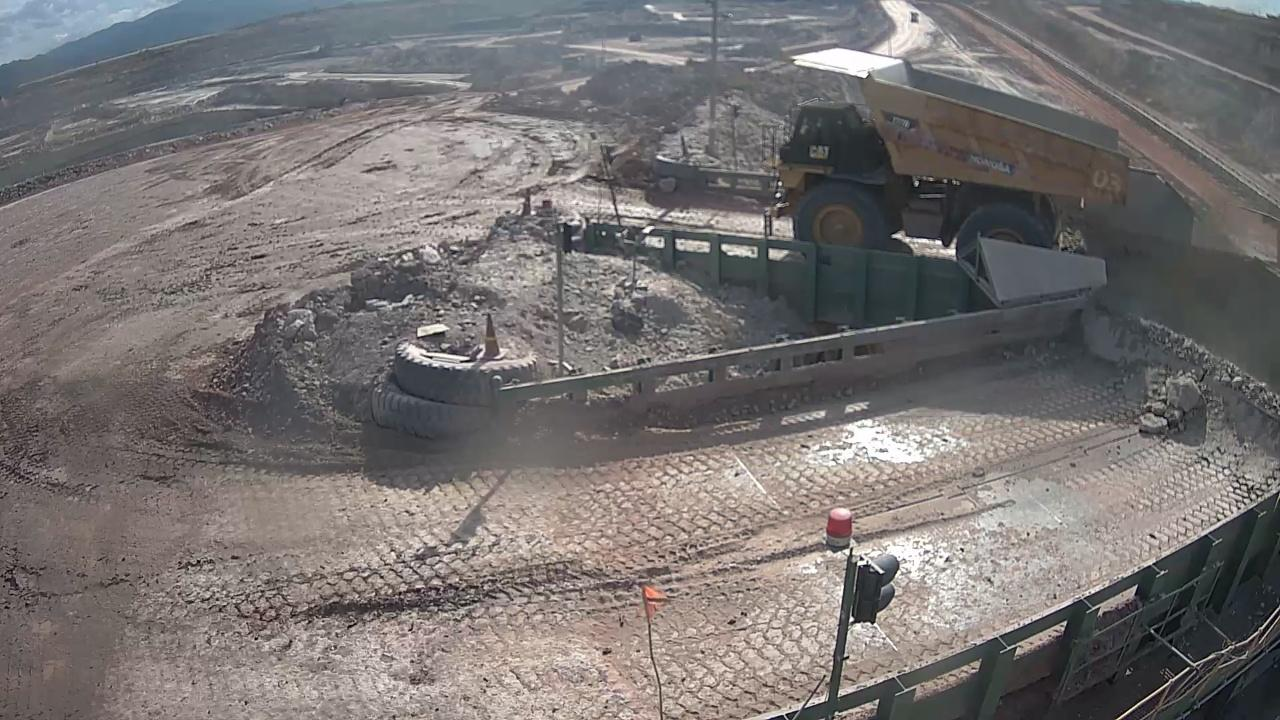empty_load: (924, 67, 1104, 144)
mining_truck: (759, 24, 1143, 298)
tail_number: (1089, 158, 1122, 200)
